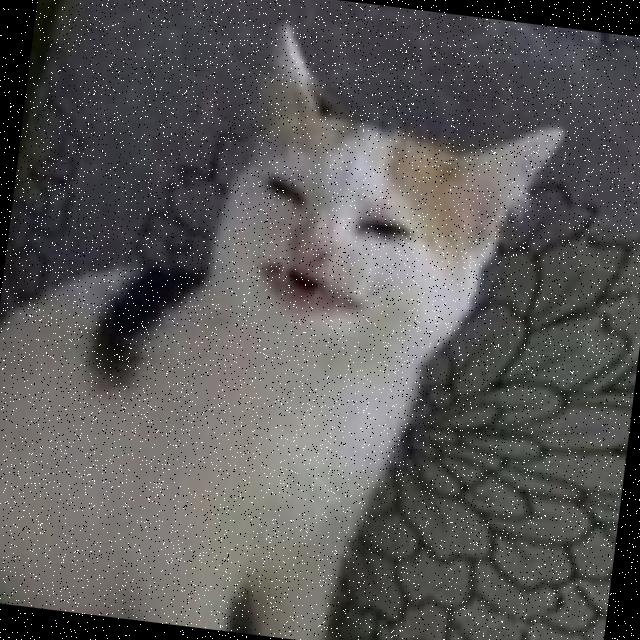Angry: (206, 142, 464, 371)
